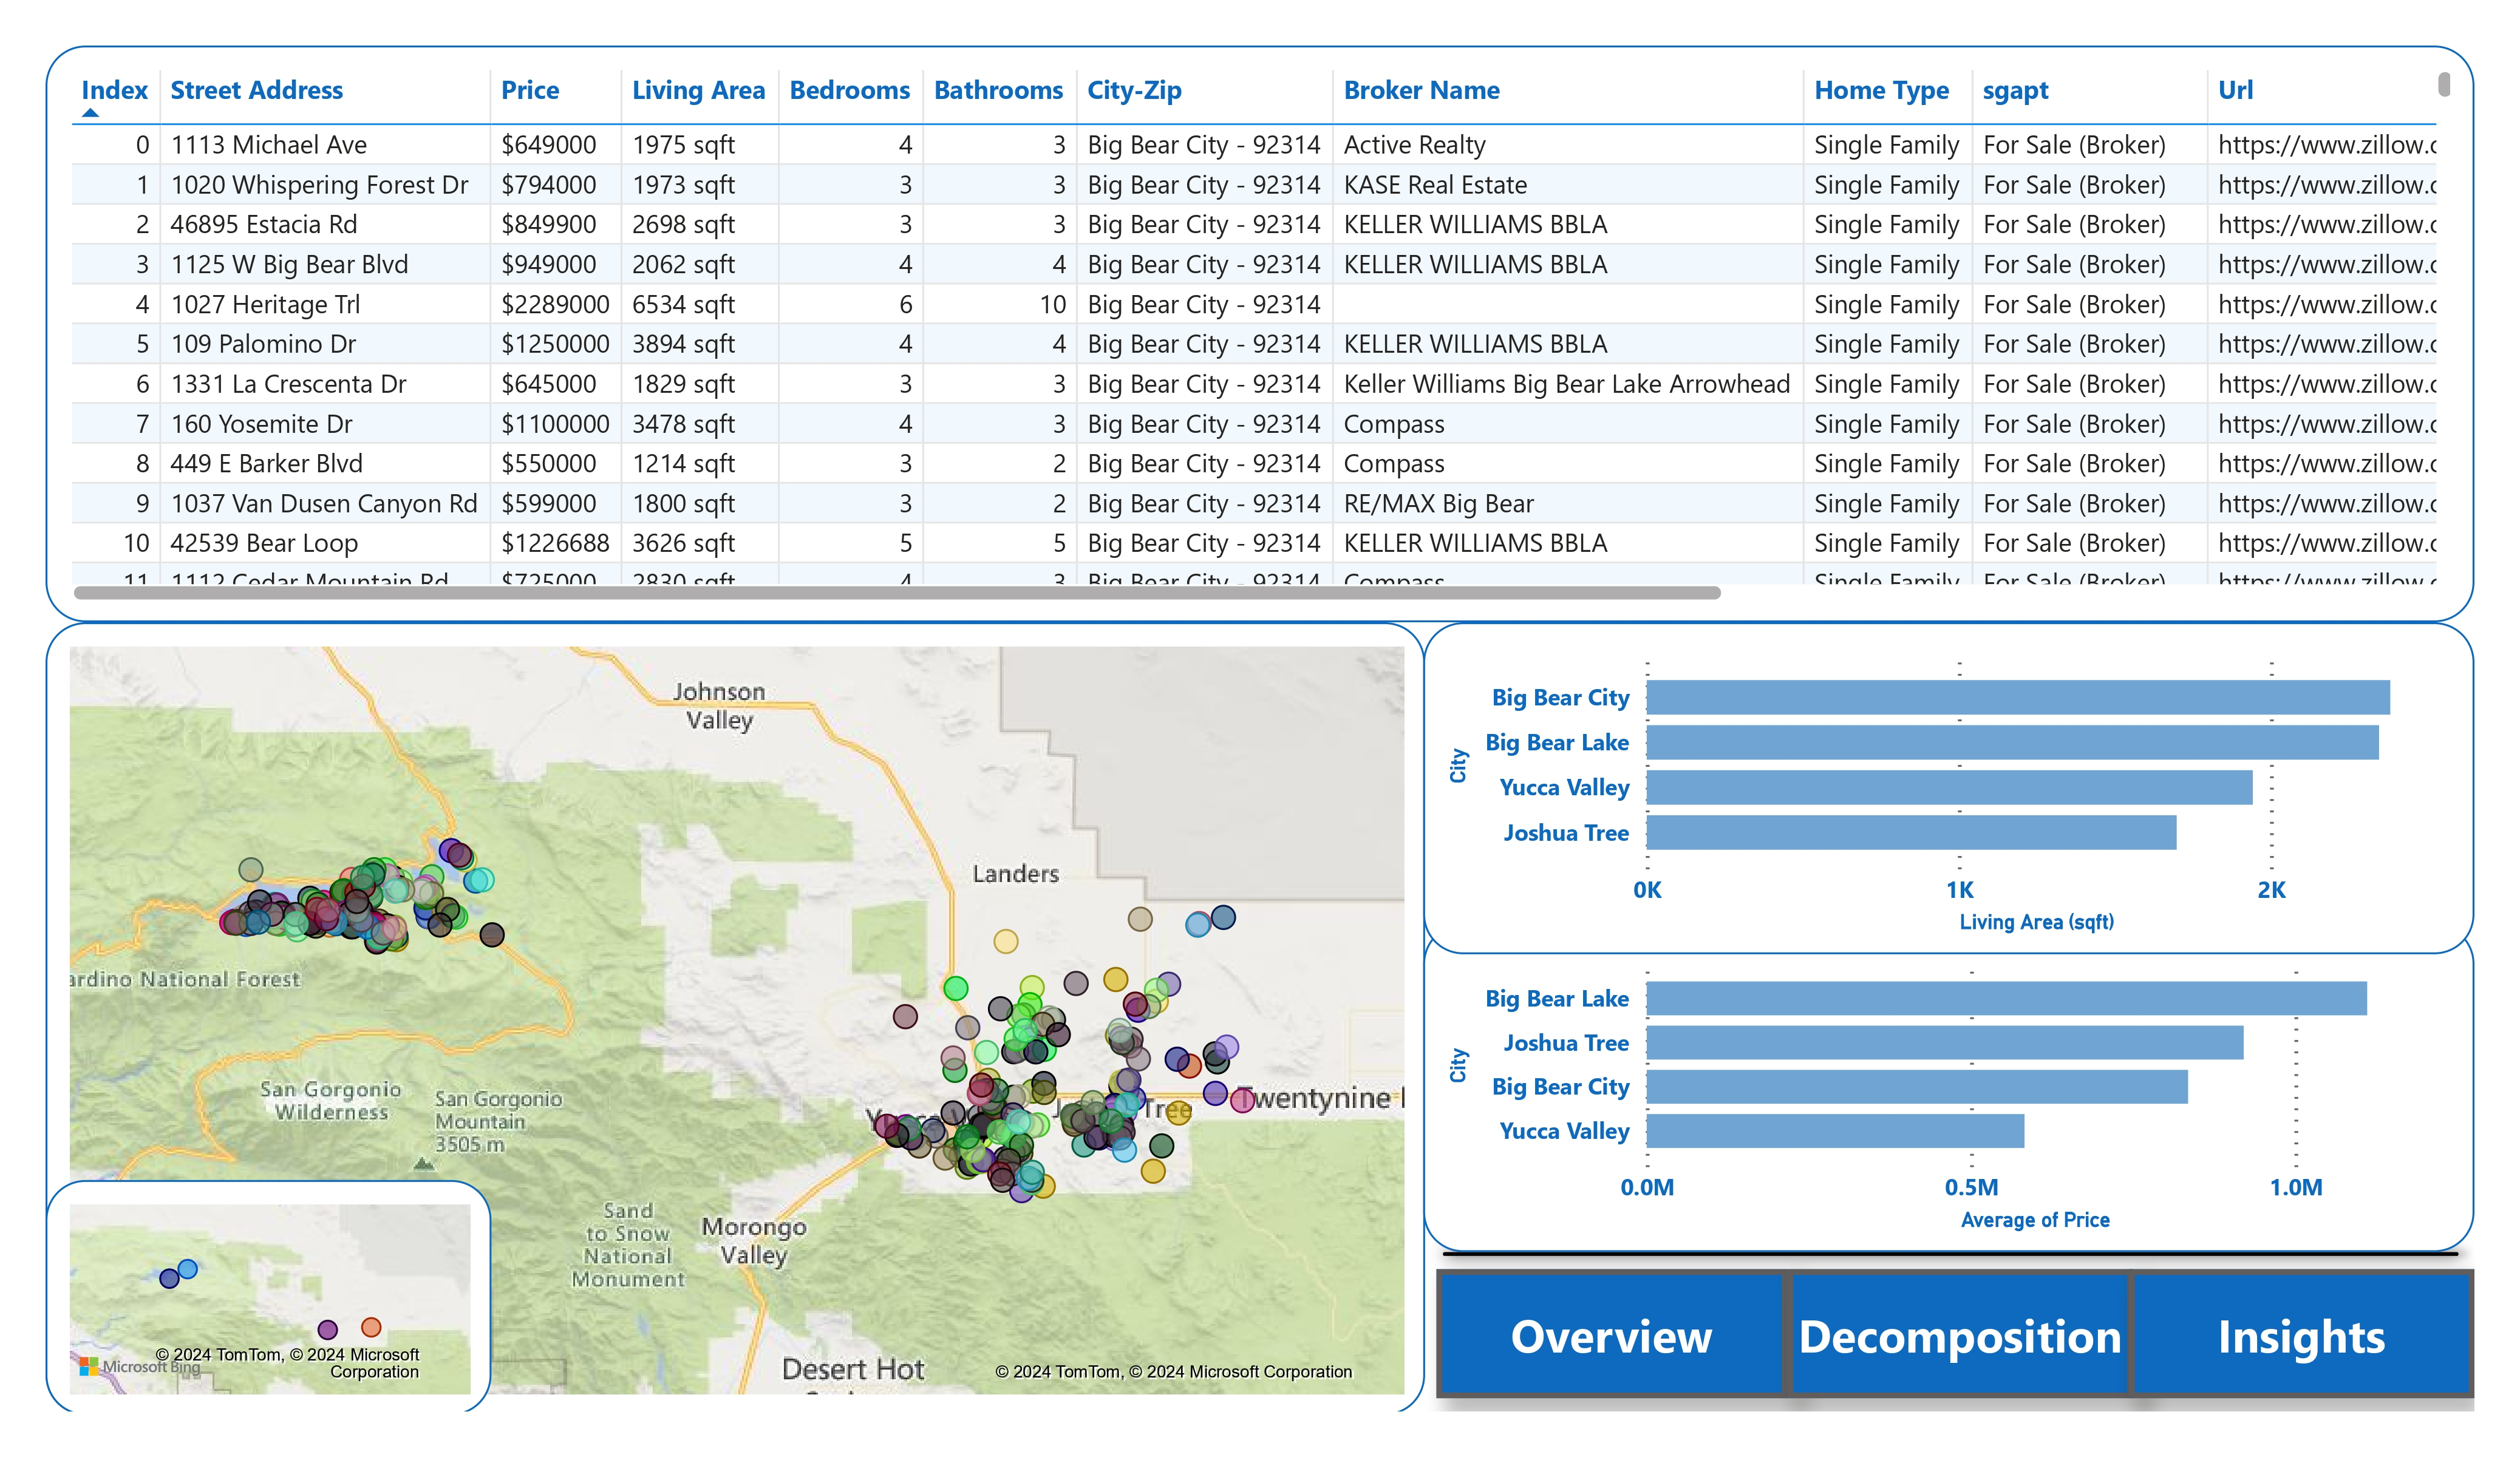

This screenshot's page, from the dashboard's own definition file:
{"tool":"powerbi","page":{"name":"Page 3","canvas":[1280,720],"ordinal":2},"visuals":[{"type":"tableEx","fields":{"Values":["sales_properties_total_zipcode.Index","sales_properties_total_zipcode.Street Address","sales_properties_total_zipcode.Price with $","sales_properties_total_zipcode.Living Area","sales_properties_total_zipcode.Bedrooms","sales_properties_total_zipcode.Bathrooms","sales_properties_total_zipcode.City_ZIp","sales_properties_total_zipcode.Broker Name","sales_properties_total_zipcode.Home Type","sales_properties_total_zipcode.sgapt","sales_properties_total_zipcode.Url"]},"box":[0,0,1280,303.8],"z":0},{"type":"actionButton","box":[732.5,645,185,67.5],"z":2000},{"type":"shape","box":[727.5,617.5,552.5,38.8],"z":3000},{"type":"actionButton","box":[917.5,645,182.5,67.5],"z":4000},{"type":"actionButton","box":[1097.5,645,182.5,67.5],"z":5000},{"type":"map","fields":{"Category":["sales_properties_total_zipcode.Custom"],"Series":["sales_properties_total_zipcode.Price with $"]},"box":[0,303.8,727.1,418.4],"z":6000,"group":"g1"},{"type":"group","id":"g1","title":"Group 1","box":[0,303.8,727.5,416.2],"z":6000},{"type":"map","fields":{"Series":["sales_properties_total_zipcode.City"],"Category":["sales_properties_total_zipcode.City"]},"box":[0,597.7,234.8,124.1],"z":7000,"group":"g1"},{"type":"barChart","fields":{"Category":["sales_properties_total_zipcode.City"],"Y":["Avg(sales_properties_total_zipcode.Price)"]},"box":[726.2,462.5,553.8,173.8],"z":7000},{"type":"barChart","fields":{"Category":["sales_properties_total_zipcode.City"],"Y":["Avg(sales_properties_total_zipcode.Living Area - Copy.1)"]},"box":[726.2,303.8,553.8,175],"z":8000}]}

Visuals, with their boxes on the page's 1280x720 design canvas (x1, y1, x2, y2). These are canvas units, not pixel positions in the 2520x1457 screenshot, which may show the page scaled, cropped or inside an application window:
tableEx - sales_properties_total_zipcode.Index x sales_properties_total_zipcode.Street Address: {"left": 0, "top": 0, "right": 1280, "bottom": 304}
actionButton: {"left": 732, "top": 645, "right": 918, "bottom": 712}
shape: {"left": 728, "top": 618, "right": 1280, "bottom": 656}
actionButton: {"left": 918, "top": 645, "right": 1100, "bottom": 712}
actionButton: {"left": 1098, "top": 645, "right": 1280, "bottom": 712}
map - sales_properties_total_zipcode.Custom x sales_properties_total_zipcode.Price with $: {"left": 0, "top": 304, "right": 727, "bottom": 722}
"Group 1" group: {"left": 0, "top": 304, "right": 728, "bottom": 720}
map - sales_properties_total_zipcode.City x sales_properties_total_zipcode.City: {"left": 0, "top": 598, "right": 235, "bottom": 722}
barChart - sales_properties_total_zipcode.City x Avg(sales_properties_total_zipcode.Price): {"left": 726, "top": 462, "right": 1280, "bottom": 636}
barChart - sales_properties_total_zipcode.City x Avg(sales_properties_total_zipcode.Living Area - Copy.1): {"left": 726, "top": 304, "right": 1280, "bottom": 479}
